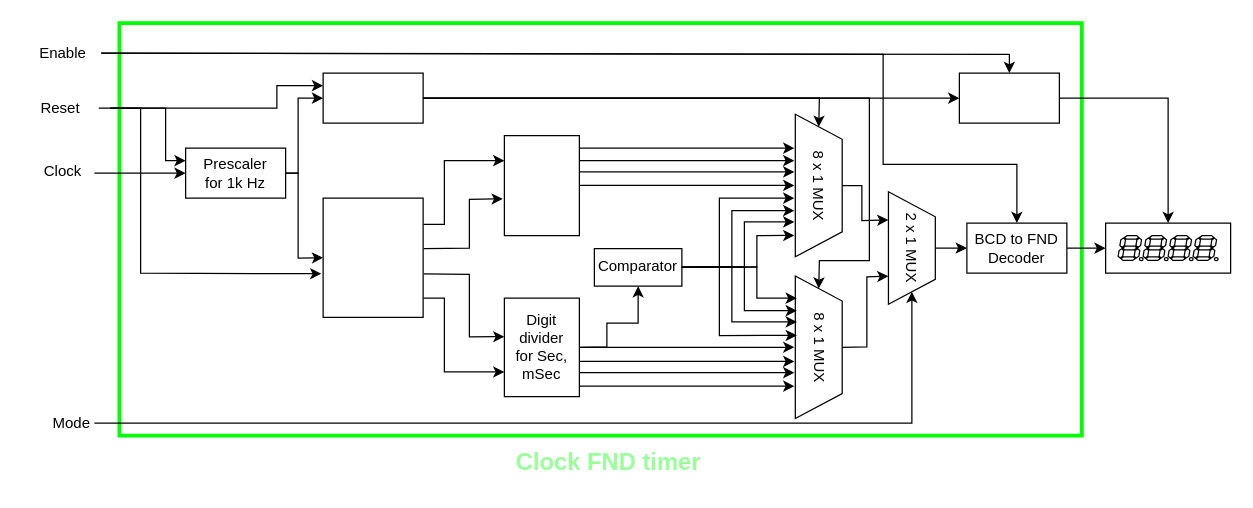
This 1253x508 diagram has some shape labels left out. Here are the shapes that lost their labels. From the top down, the centre of each, then its label:
At point 372,97: "Counter to FND".
At point 1008,97: "2x4 Decoder".
At point 541,185: "Digit divider for Hour, Min".
At point 372,257: "Counter to Clock".
